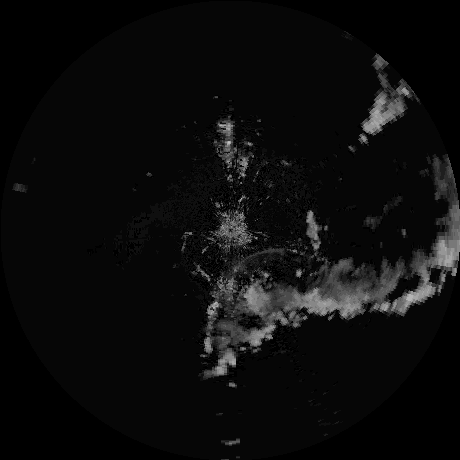frontgust: (235, 247, 316, 272)
